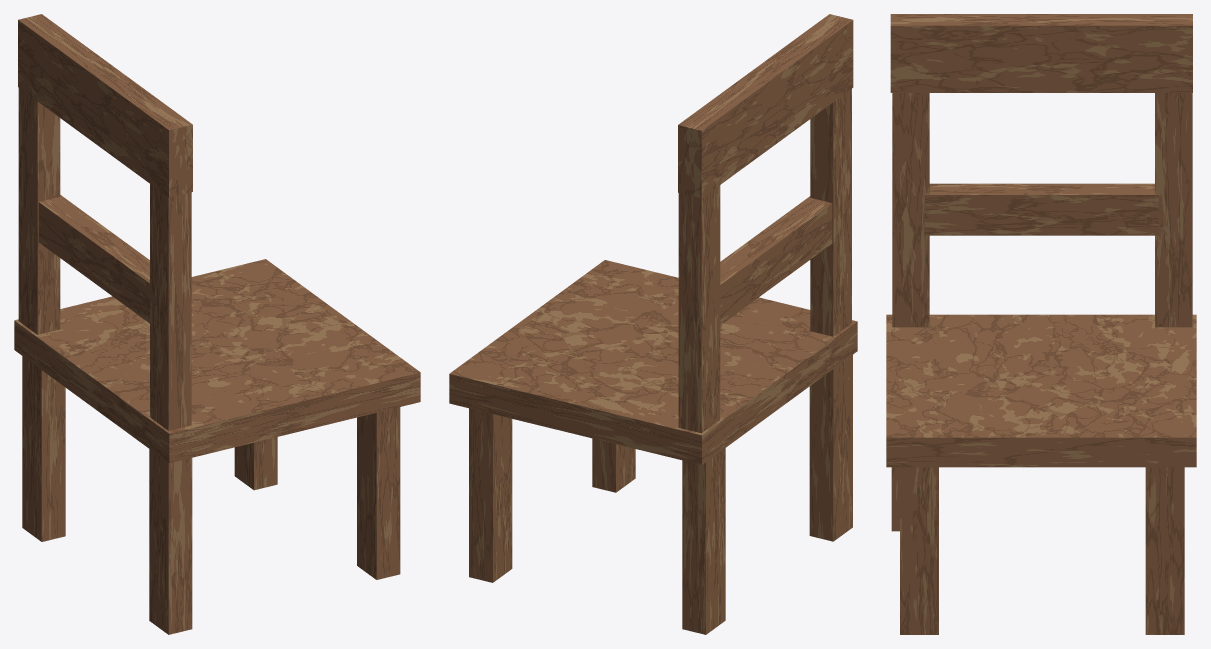
Rendered from Chair.fbx.
3 renders of one model, left to right at view 1: azimuth 30°, elevation 25°; view 2: azimuth 150°, elevation 25°; view 3: azimuth 270°, elevation 25°, orthographic.
Visible parts, largest first — view 1: pCube22, pCube7, pCube16, pCube19, pCube12, pCube13, pCube15, pCube21, pCube14; view 2: pCube22, pCube7, pCube19, pCube16, pCube13, pCube12, pCube14, pCube21, pCube15; view 3: pCube22, pCube7, pCube21, pCube19, pCube16, pCube14, pCube15, pCube12.
Boxes of the visible parts, x1=… form: pCube22: x1=14, y1=259, x2=420, y2=463; pCube7: x1=18, y1=14, x2=192, y2=197; pCube16: x1=150, y1=184, x2=191, y2=430; pCube19: x1=18, y1=88, x2=60, y2=334; pCube12: x1=149, y1=449, x2=192, y2=634; pCube13: x1=22, y1=356, x2=65, y2=541; pCube15: x1=357, y1=407, x2=400, y2=579; pCube21: x1=38, y1=195, x2=149, y2=323; pCube14: x1=234, y1=437, x2=277, y2=490; pCube22: x1=449, y1=260, x2=857, y2=464; pCube7: x1=678, y1=14, x2=853, y2=198; pCube19: x1=678, y1=185, x2=720, y2=433; pCube16: x1=810, y1=89, x2=851, y2=336; pCube13: x1=682, y1=448, x2=725, y2=634; pCube12: x1=809, y1=355, x2=852, y2=541; pCube14: x1=469, y1=408, x2=512, y2=582; pCube21: x1=720, y1=196, x2=832, y2=325; pCube15: x1=592, y1=438, x2=635, y2=492; pCube22: x1=886, y1=314, x2=1196, y2=467; pCube7: x1=890, y1=14, x2=1192, y2=92; pCube21: x1=924, y1=183, x2=1158, y2=235; pCube19: x1=1155, y1=93, x2=1192, y2=327; pCube16: x1=892, y1=93, x2=929, y2=327; pCube14: x1=1145, y1=467, x2=1184, y2=634; pCube15: x1=900, y1=467, x2=938, y2=634; pCube12: x1=891, y1=467, x2=899, y2=531.
Size of the model in its own units: 3.91 by 7.49 by 4.17.
Materials: 1 (1 with a texture image).
